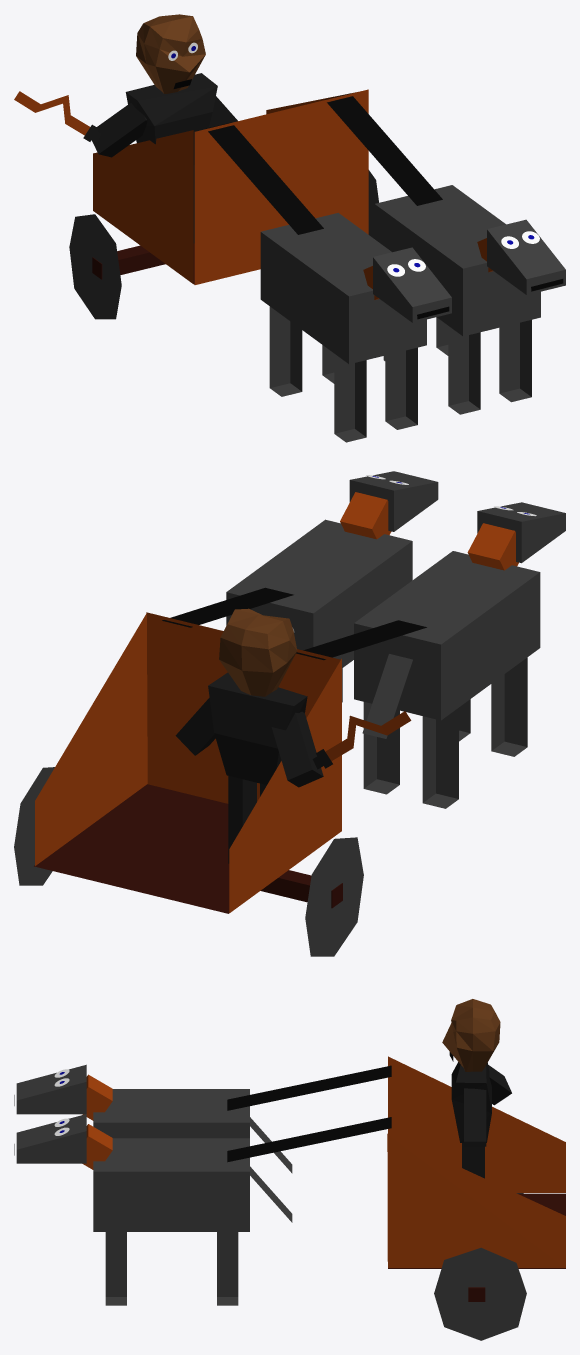
The model's file is heavychariot1fr.obj.
3 views of the same model, one above another, from view 1: azimuth 30°, elevation 25°; view 2: azimuth 150°, elevation 25°; view 3: azimuth 270°, elevation 25° (orthographic). The views are drawn at different scales.
Parts seen in each view (by area): view 1: Plane.005_Plane.006, Cube.015_Cube.017, Cube.006_Cube.009, Plane.003, Plane.007_Plane.008, Cube, Cube.001, Cube.021_Cube.023, Cube.014_Cube.016, Plane.013_Plane.014, Plane.012_Plane.013, Cube.012_Cube.014 (+7 smaller); view 2: Cube.015_Cube.017, Plane.002, Plane.004, Cube.006_Cube.009, Plane.005_Plane.006, Plane.003, Cube.001, Cube, Plane.007_Plane.008, Cube.016_Cube.018, Cube.019_Cube.021, Cube.014_Cube.016 (+13 smaller); view 3: Plane.004, Cube.006_Cube.009, Plane.003, Cube.015_Cube.017, Plane.006_Plane.007, Cube, Cube.021_Cube.023, Cube.014_Cube.016, Plane.012_Plane.013, Plane.013_Plane.014, Cube.010_Cube.012, Cube.011_Cube.013 (+7 smaller).
Part boxes in pixels (bbox=[...]): Plane.005_Plane.006: bbox=[194, 89, 368, 284]; Cube.015_Cube.017: bbox=[260, 212, 426, 364]; Cube.006_Cube.009: bbox=[374, 185, 540, 336]; Plane.003: bbox=[93, 130, 193, 283]; Plane.007_Plane.008: bbox=[69, 214, 121, 319]; Cube: bbox=[136, 14, 205, 93]; Cube.001: bbox=[125, 73, 217, 164]; Cube.021_Cube.023: bbox=[373, 247, 451, 322]; Cube.014_Cube.016: bbox=[487, 219, 565, 294]; Plane.013_Plane.014: bbox=[324, 93, 442, 205]; Plane.012_Plane.013: bbox=[206, 122, 323, 234]; Cube.012_Cube.014: bbox=[448, 326, 480, 414]; Cube.015_Cube.017: bbox=[354, 551, 540, 720]; Plane.002: bbox=[34, 784, 229, 913]; Plane.004: bbox=[35, 613, 147, 865]; Cube.006_Cube.009: bbox=[226, 519, 412, 668]; Plane.005_Plane.006: bbox=[146, 612, 340, 803]; Plane.003: bbox=[229, 658, 341, 913]; Cube.001: bbox=[208, 672, 307, 784]; Cube: bbox=[219, 608, 297, 696]; Plane.007_Plane.008: bbox=[305, 837, 363, 956]; Cube.016_Cube.018: bbox=[422, 708, 458, 808]; Cube.019_Cube.021: bbox=[491, 657, 527, 756]; Cube.014_Cube.016: bbox=[349, 471, 438, 531]; Plane.004: bbox=[387, 1133, 565, 1267]; Cube.006_Cube.009: bbox=[93, 1138, 249, 1231]; Plane.003: bbox=[388, 1056, 565, 1192]; Cube.015_Cube.017: bbox=[93, 1089, 249, 1138]; Plane.006_Plane.007: bbox=[434, 1247, 526, 1340]; Cube: bbox=[442, 999, 500, 1071]; Cube.021_Cube.023: bbox=[16, 1064, 86, 1114]; Cube.014_Cube.016: bbox=[16, 1114, 86, 1163]; Plane.012_Plane.013: bbox=[227, 1065, 391, 1110]; Plane.013_Plane.014: bbox=[227, 1117, 391, 1162]; Cube.010_Cube.012: bbox=[217, 1232, 238, 1305]; Cube.011_Cube.013: bbox=[105, 1232, 126, 1305].
Bounding box in the file's own units: 9.32 × 7.5 × 14.9.
